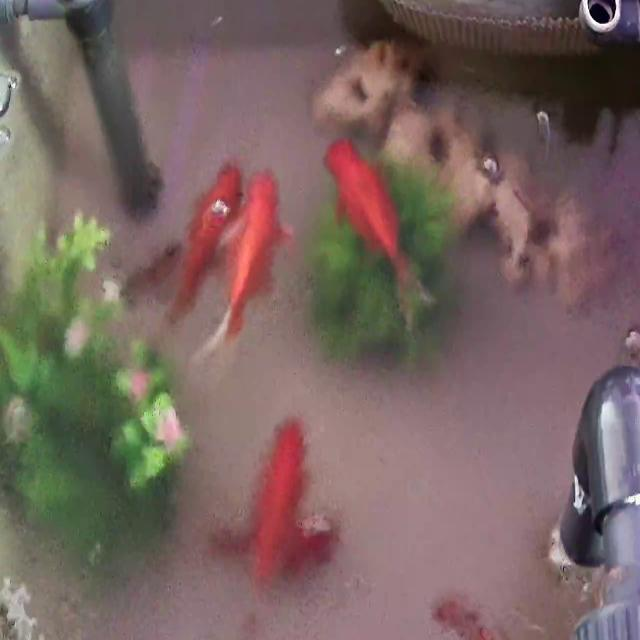fish: (197, 166, 294, 368), (327, 136, 415, 300), (160, 159, 244, 326), (246, 415, 308, 592), (278, 519, 338, 588), (435, 591, 519, 640)
